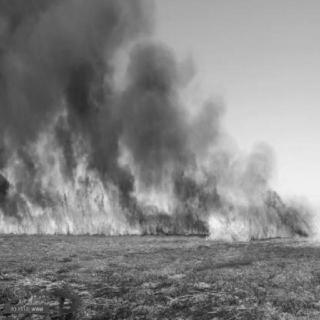Fire: (2, 182, 319, 248)
